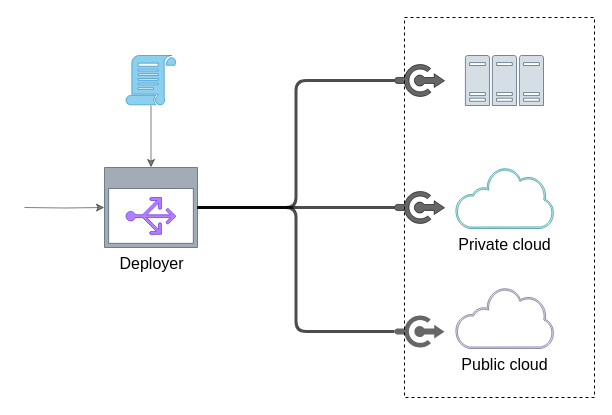
Image size: 612x415. Some labels were removed from this diagram. The box of each missing label's shape, as (x1, y1, x2, y2) in pixels:
Legacy stack: (464, 54, 544, 106)
Policies: (125, 54, 176, 106)
